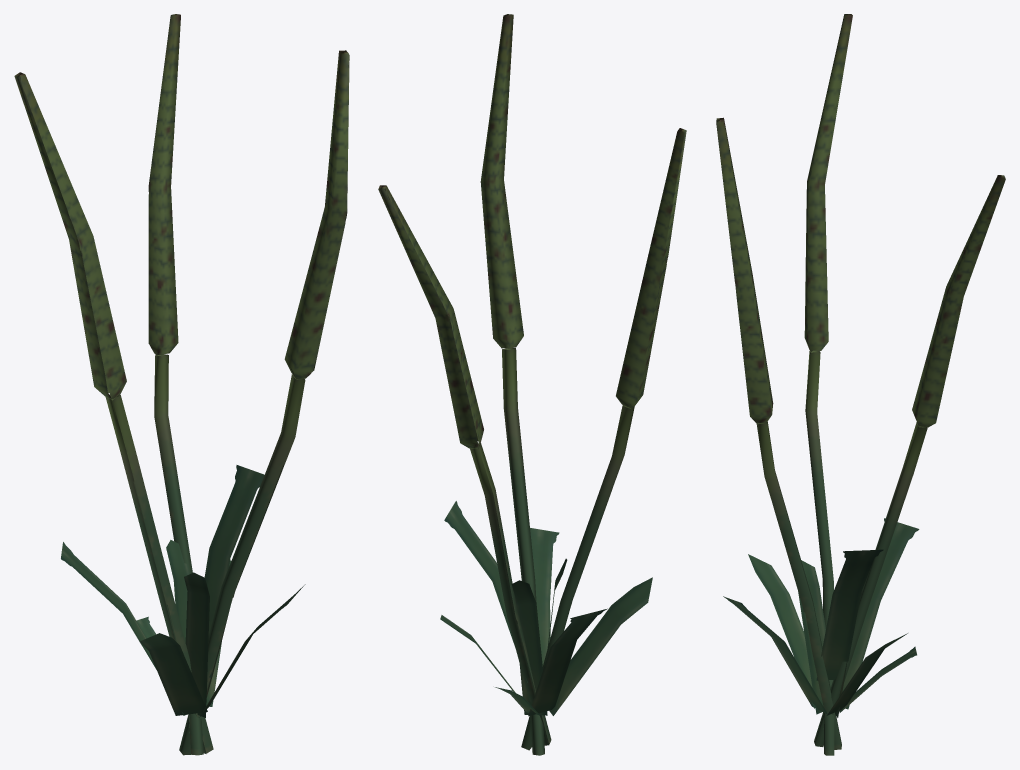
The model's file is Plantago damaged.fbx.
3 views of the same model, side by side, from view 1: azimuth 30°, elevation 25°; view 2: azimuth 150°, elevation 25°; view 3: azimuth 270°, elevation 25° (orthographic). The views are drawn at different scales.
Visible parts, largest first — view 1: Plantago_damaged_LOD00; view 2: Plantago_damaged_LOD00; view 3: Plantago_damaged_LOD00.
Boxes of the visible parts, x1,y1,x2,y2 form: Plantago_damaged_LOD00: (14,14,349,755); Plantago_damaged_LOD00: (378,14,686,755); Plantago_damaged_LOD00: (716,14,1005,755).
Size of what is drawn, in the model's own units: 0.0797 by 0.0795 by 0.2031.
